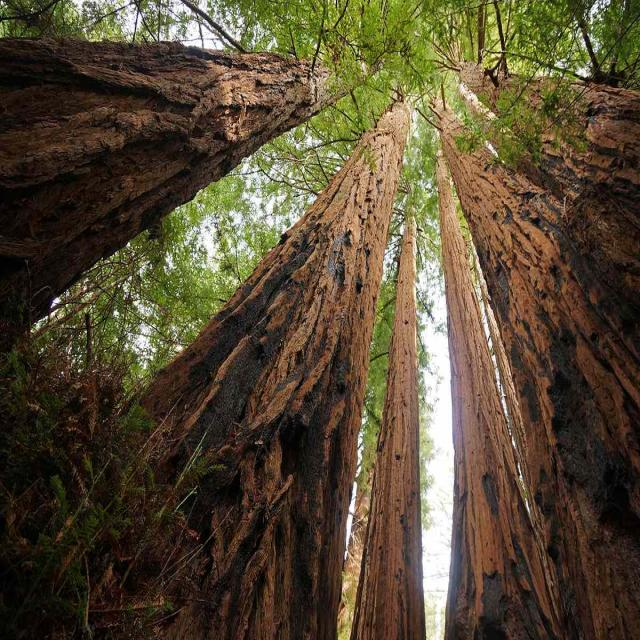Sequoia sempervirens: (127, 94, 417, 640), (437, 94, 640, 582), (0, 28, 291, 294)
